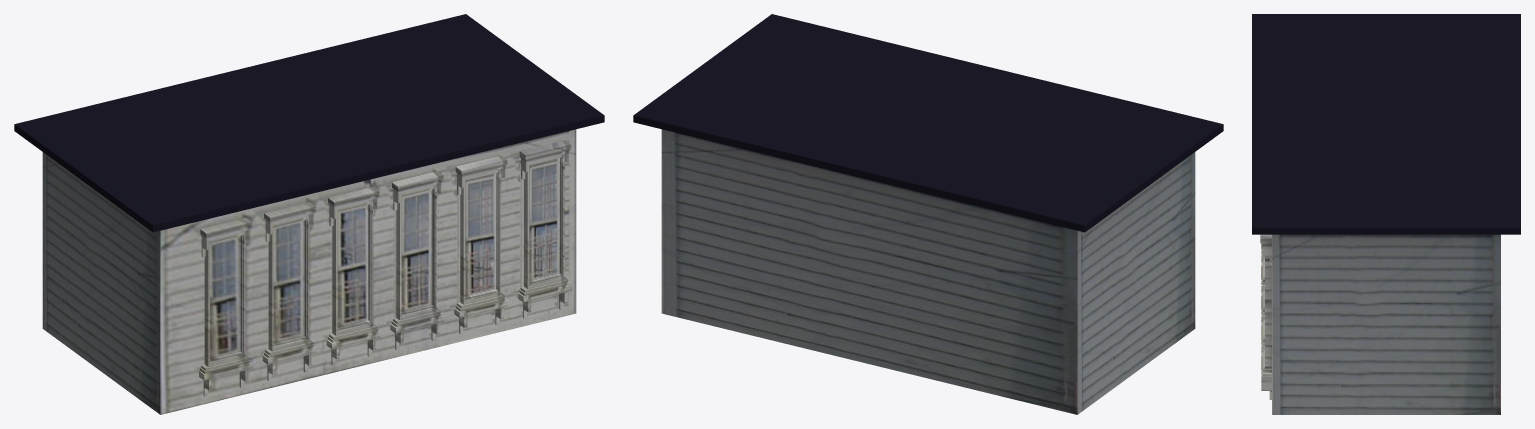
File: house_top2.dae
The picture shows the model from 3 angles, left to right: view 1: azimuth 30°, elevation 25°; view 2: azimuth 150°, elevation 25°; view 3: azimuth 270°, elevation 25°; orthographic projection. The views are drawn at different scales.
Visible parts, largest first — view 1: 立方体.1; view 2: 立方体.1; view 3: 立方体.1.
Part boxes in pixels (x1=…): 立方体.1: x1=14, y1=14, x2=604, y2=414; 立方体.1: x1=633, y1=14, x2=1223, y2=414; 立方体.1: x1=1252, y1=14, x2=1520, y2=414.
Size of the model in its own units: 608 by 259 by 323.
Materials: 1 (1 with a texture image).
